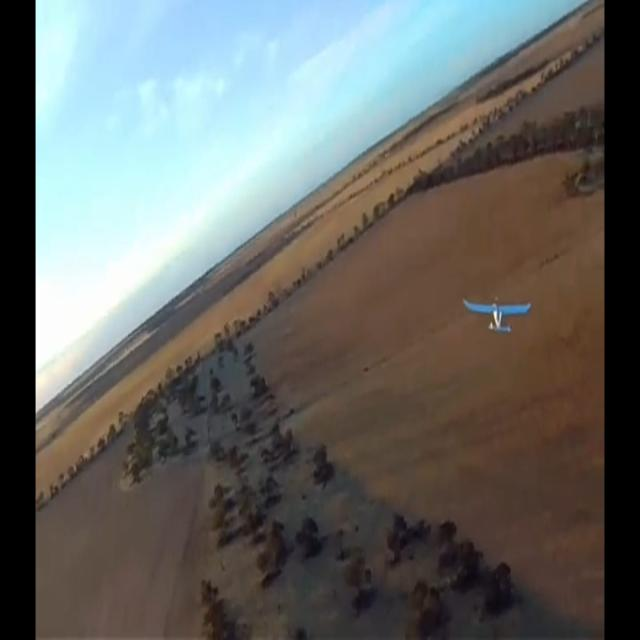iha: (494, 294, 500, 334)
